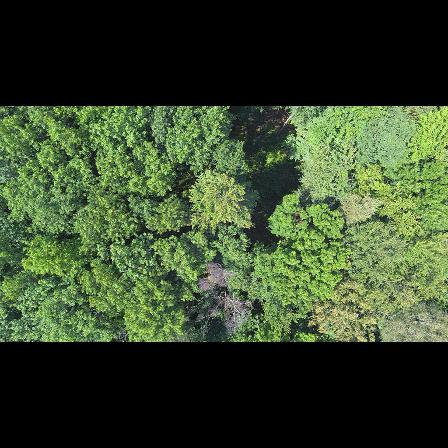Dead: (197, 293, 253, 331), (194, 262, 236, 292)
